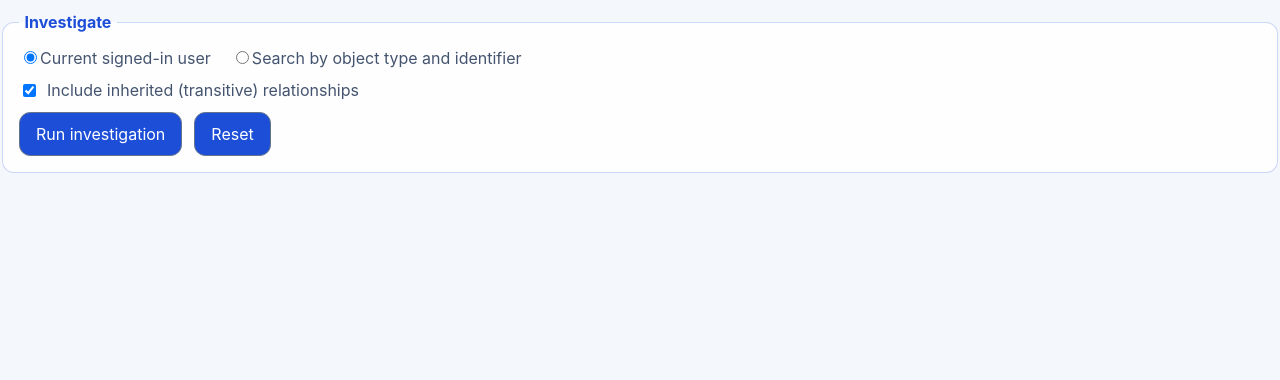
Test case: QueryPanel › aborts stale typeahead requests and ignores their late results
Click the radio button labelled "Search by object type and identifier": (242, 58) [236,51,249,64]
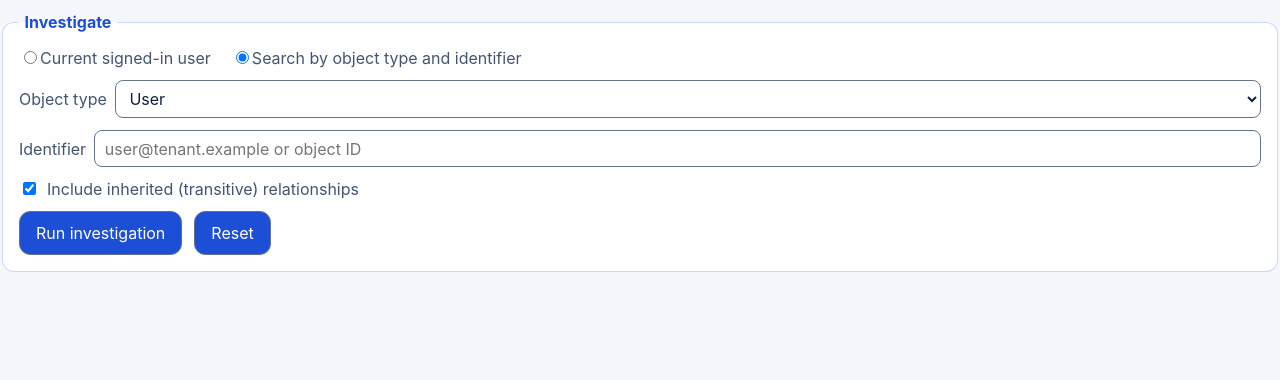
In the dropdown labelled "Identifier": (678, 149) [94,130,1261,167], type "eng"
Wait 250 ms
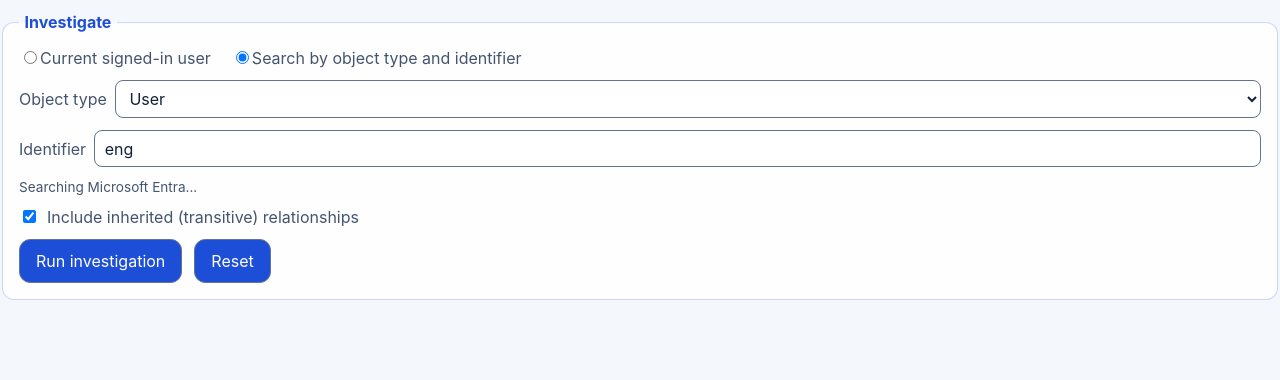
Replace the text in the dropdown labelled "Identifier" with "engine": (678, 149) [94,130,1261,167]
Wait 250 ms
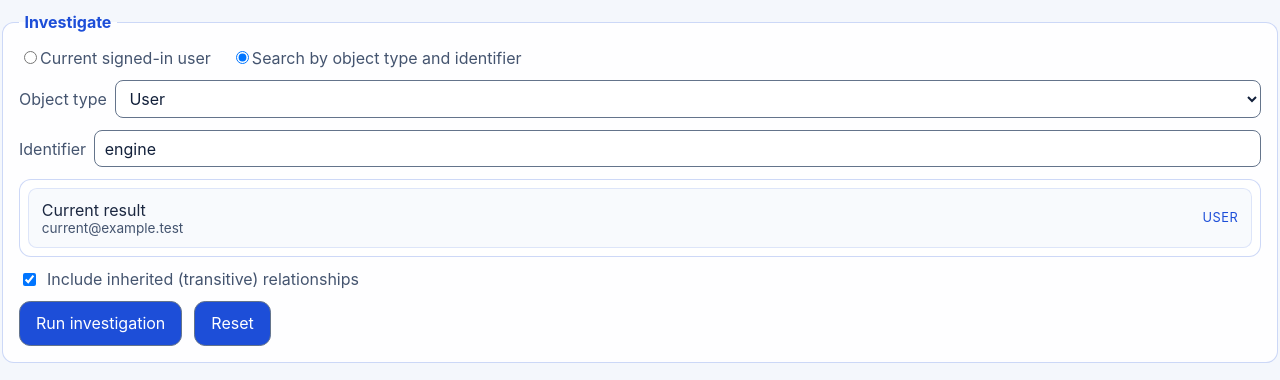
Expected: the text "Current result" is shown, [42,200,146,220]
